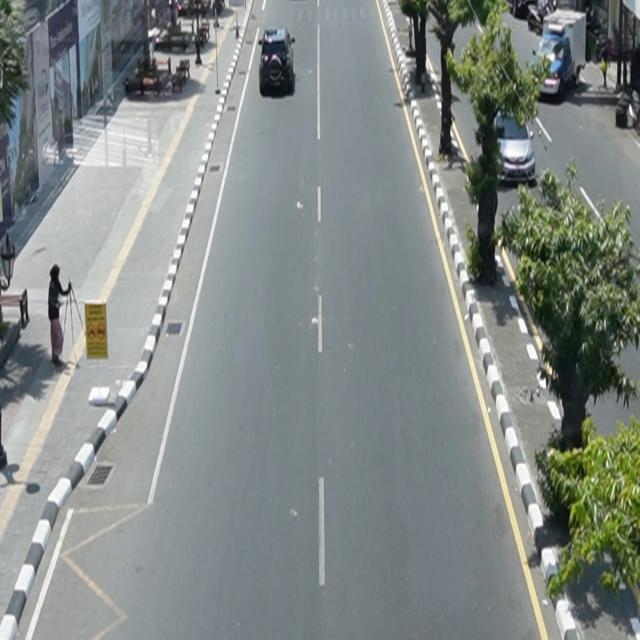car: (493, 108, 537, 187), (260, 28, 296, 96)
